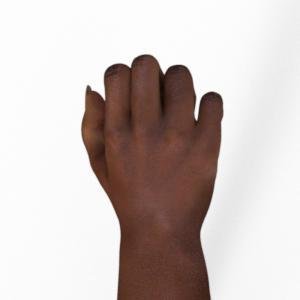rock: (82, 55, 221, 300)
